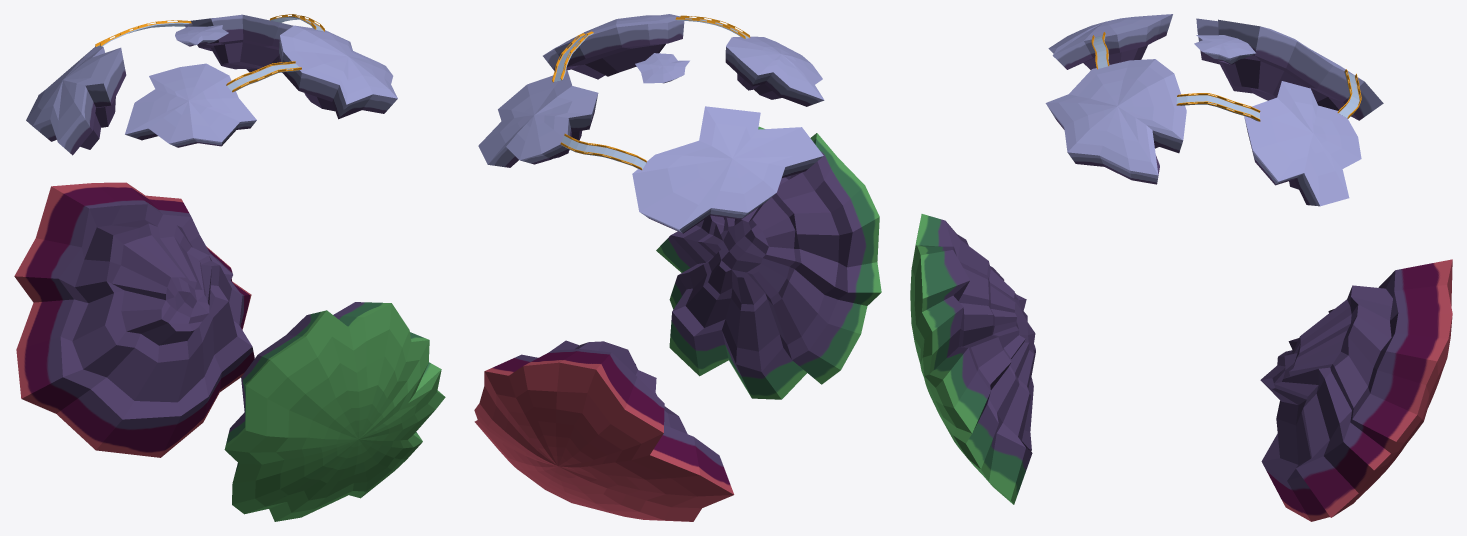
File: Planeta.fbx
The picture shows the model from 3 angles, left to right: view 1: azimuth 30°, elevation 25°; view 2: azimuth 150°, elevation 25°; view 3: azimuth 270°, elevation 25°; orthographic projection. The views are drawn at different scales.
Parts seen in each view (by area): view 1: Tierra CR, Tierra C, Tierra CA, Puente, Puente.002; view 2: Tierra C, Tierra CA, Tierra CR, Puente.002, Puente.001; view 3: Tierra CA, Tierra CR, Tierra C, Puente.001, Puente.002.
Part boxes in pixels (left/top/right/bottom): Tierra CR: left=14, top=182, right=254, bottom=457; Tierra C: left=224, top=302, right=445, bottom=521; Tierra CA: left=26, top=14, right=397, bottom=155; Puente: left=226, top=61, right=301, bottom=92; Puente.002: left=95, top=20, right=191, bottom=47; Tierra C: left=656, top=126, right=881, bottom=399; Tierra CA: left=478, top=14, right=824, bottom=233; Tierra CR: left=474, top=340, right=734, bottom=521; Puente.002: left=560, top=133, right=646, bottom=170; Puente.001: left=552, top=31, right=593, bottom=82; Tierra CA: left=1045, top=14, right=1383, bottom=206; Tierra CR: left=1260, top=259, right=1452, bottom=521; Tierra C: left=910, top=214, right=1035, bottom=504; Puente.001: left=1176, top=93, right=1260, bottom=121; Puente.002: left=1337, top=69, right=1361, bottom=118.
Bounding box in the file's own units: 7015 × 9827 × 10108.
